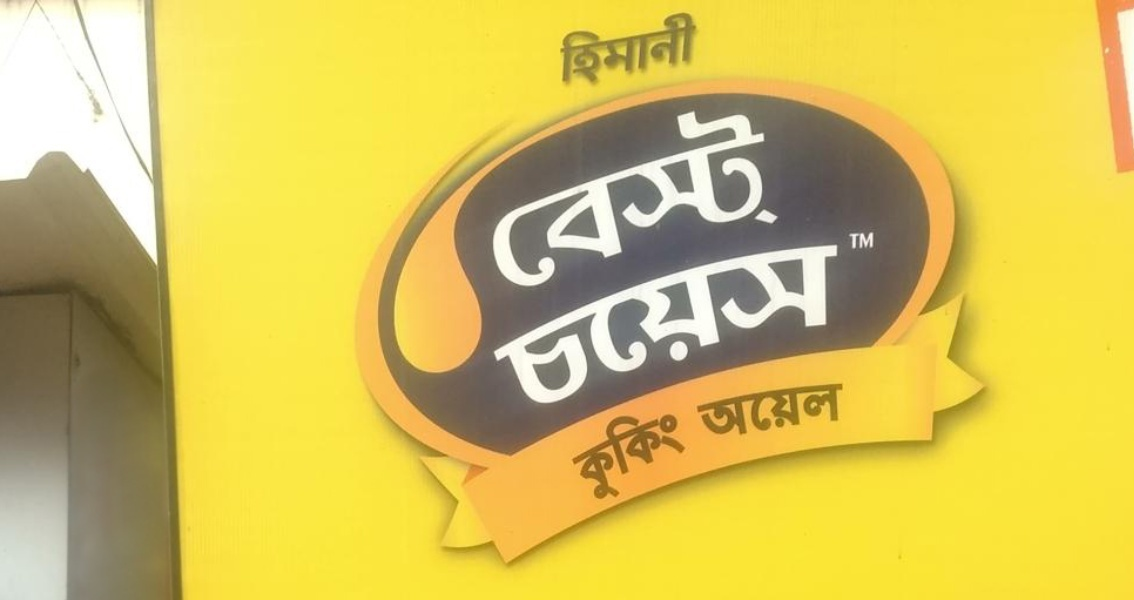text: (481, 91, 496, 310), (497, 91, 512, 310), (513, 91, 528, 310), (529, 91, 544, 310), (545, 91, 560, 310), (561, 91, 576, 310), (577, 91, 592, 310), (593, 91, 608, 310), (609, 91, 624, 310), (625, 91, 640, 310), (641, 91, 656, 310), (657, 91, 672, 310), (673, 91, 688, 310), (689, 91, 704, 310), (705, 91, 720, 310), (721, 91, 736, 310), (737, 91, 752, 310), (753, 91, 768, 310), (769, 91, 784, 310), (785, 91, 800, 310), (801, 91, 816, 310), (481, 219, 496, 428), (497, 219, 512, 428), (513, 219, 528, 428), (529, 219, 544, 428), (545, 219, 560, 428), (561, 219, 576, 428), (577, 219, 592, 428), (593, 219, 608, 428), (609, 219, 624, 428), (625, 219, 640, 428), (641, 219, 656, 428), (657, 219, 672, 428), (673, 219, 688, 428), (689, 219, 704, 428), (705, 219, 720, 428), (721, 219, 736, 428), (737, 219, 752, 428), (753, 219, 768, 428), (769, 219, 784, 428), (785, 219, 800, 428), (801, 219, 816, 428), (817, 219, 832, 428), (833, 219, 848, 428), (849, 219, 864, 428), (468, 91, 480, 310), (577, 390, 592, 512), (593, 390, 608, 512), (609, 390, 624, 512), (625, 390, 640, 512), (641, 390, 656, 512), (657, 390, 672, 512), (673, 390, 688, 512), (562, 390, 576, 512), (689, 390, 701, 512), (561, 6, 576, 92), (577, 6, 592, 92), (593, 6, 608, 92), (609, 6, 624, 92), (625, 6, 640, 92), (641, 6, 656, 92), (657, 6, 672, 92), (673, 6, 688, 92), (689, 6, 703, 92), (865, 219, 870, 428), (705, 379, 720, 446), (721, 379, 736, 446), (737, 379, 752, 446), (753, 379, 768, 446), (769, 379, 784, 446), (785, 379, 800, 446), (801, 379, 816, 446), (817, 379, 832, 446), (691, 379, 704, 446), (833, 379, 846, 446), (476, 219, 480, 428), (552, 6, 560, 92), (817, 91, 819, 310), (849, 225, 864, 254), (865, 225, 875, 254), (845, 225, 848, 254)
